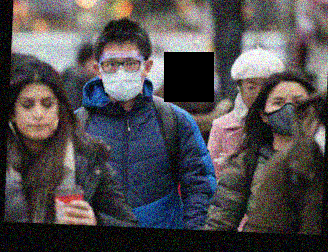with_mask: (97, 47, 145, 102), (264, 90, 309, 139)
without_mask: (12, 91, 60, 142), (238, 76, 265, 112)
